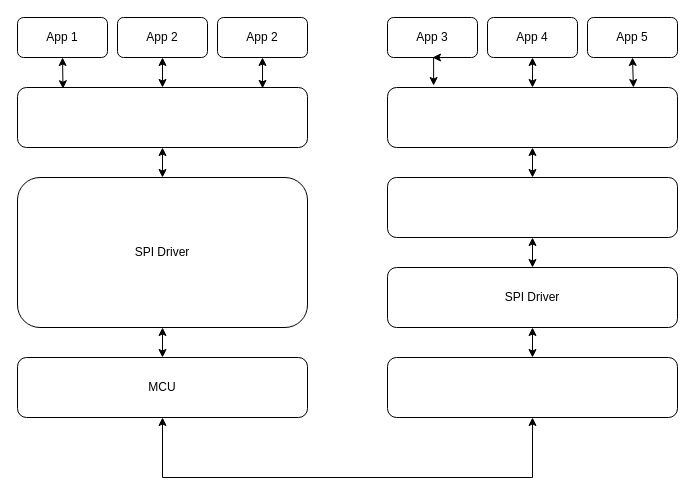
The diagram is 695 pixels wide and 504 high, and some of its shapes have lost their labels. The shapes that lost their labels are listed below. From the top down, each one's centre as x and y in pixels, then its label:
At point 162,117: "KIPC SPI Library".
At point 532,117: "KIPC Library".
At point 532,207: "Kernel Driver".
At point 532,387: "CPU".
